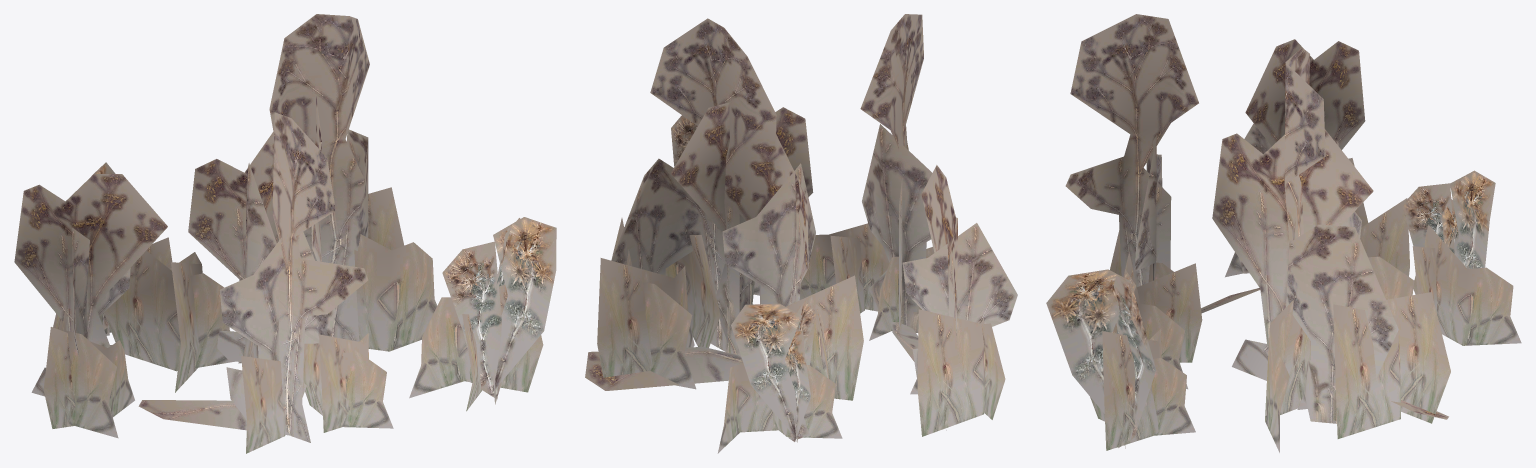
Rendered from proc_dry_plants_01.FBX.
3 renders of one model, left to right at view 1: azimuth 30°, elevation 25°; view 2: azimuth 150°, elevation 25°; view 3: azimuth 270°, elevation 25°, orthographic. The views are drawn at different scales.
Visible parts, largest first — view 1: proc_dry_plants_01; view 2: proc_dry_plants_01; view 3: proc_dry_plants_01.
Part boxes in pixels (x1,y1,x2,y2): proc_dry_plants_01: (14,14,556,453); proc_dry_plants_01: (585,14,1017,453); proc_dry_plants_01: (1046,14,1521,452).
Size of the model in its own units: 1.68 by 1.61 by 1.33.
1 material, 1 textured.
